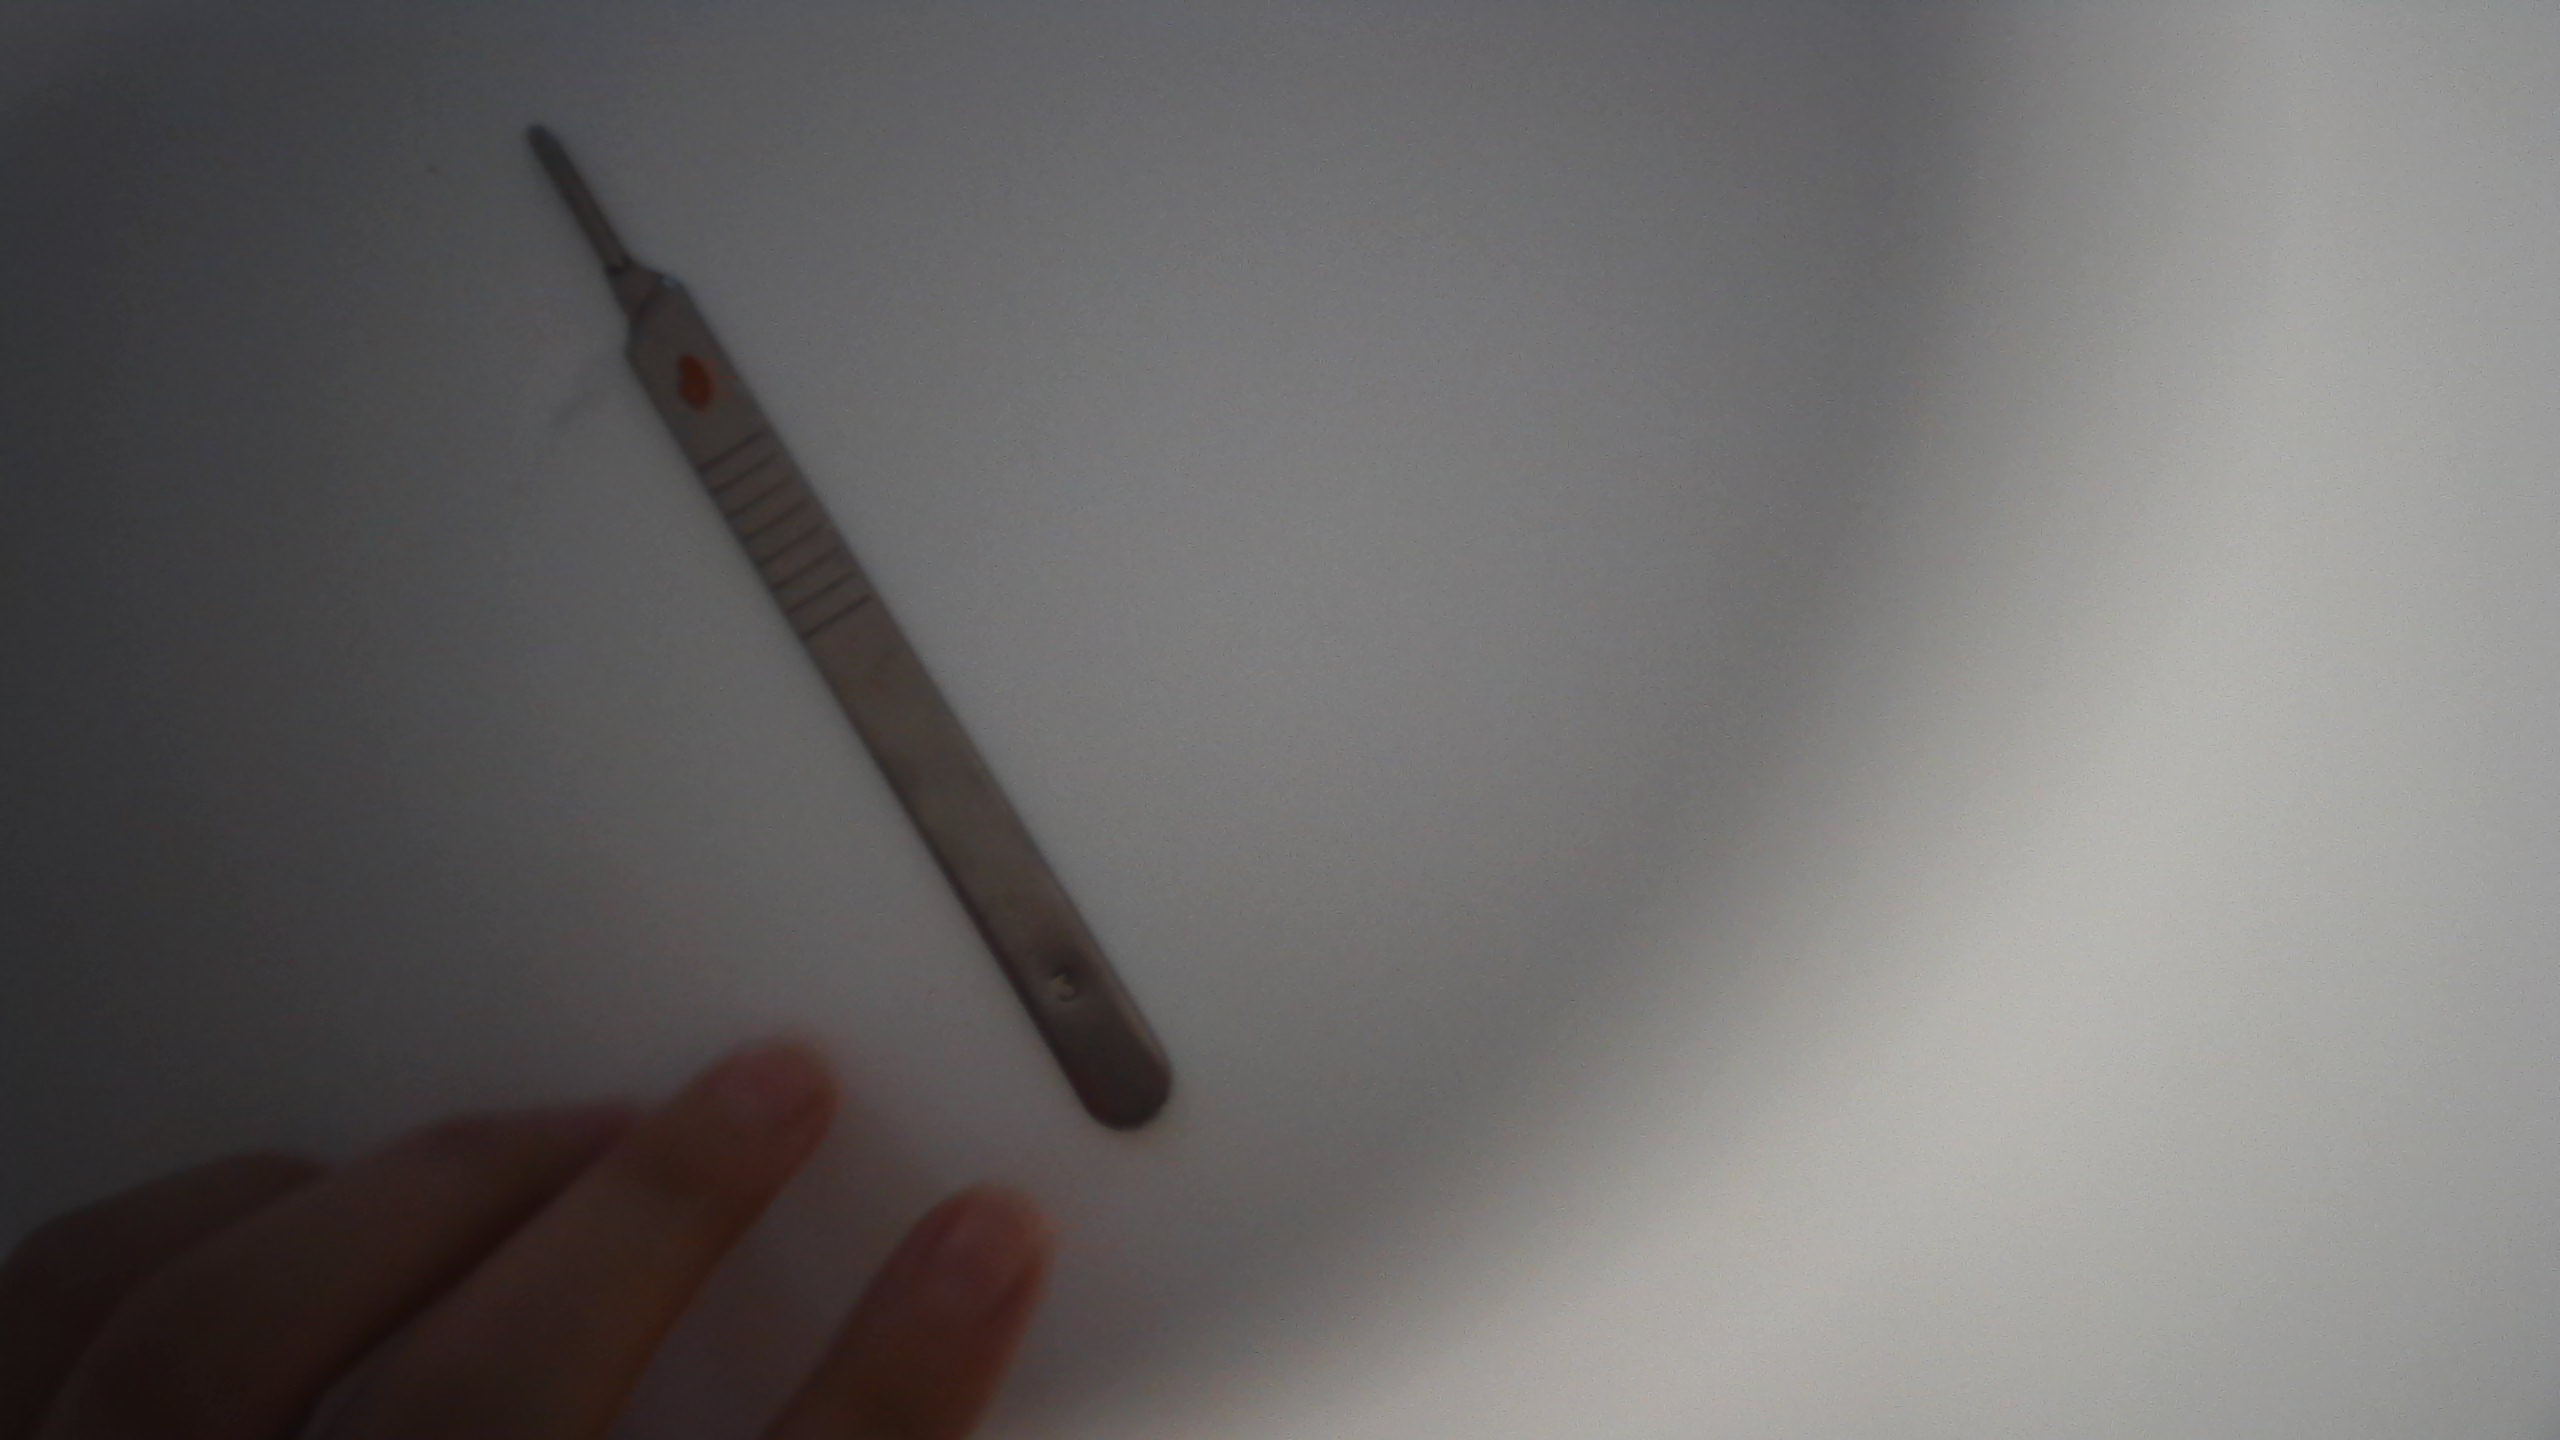Stain: (660, 345, 735, 416)
